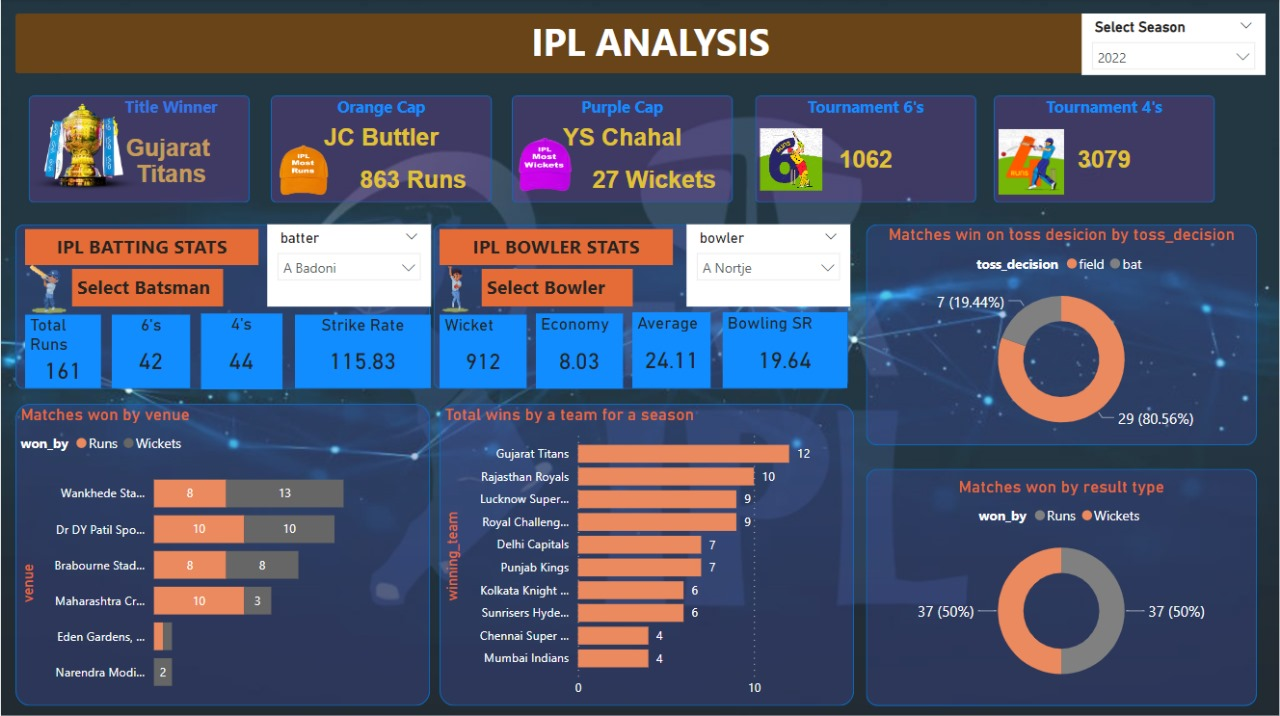

This screenshot's page, from the dashboard's own definition file:
{"tool":"powerbi","page":{"name":"Page 1","canvas":[1280,720],"ordinal":0},"visuals":[{"type":"shape","box":[15,15,1250,60],"z":0},{"type":"textbox","box":[526.2,12.5,281.2,62.5],"z":1000},{"type":"slicer","fields":{"Values":["Calender Table.Year"]},"box":[1081.2,15,183.8,61.2],"z":2000},{"type":"card","title":"Title Winner","fields":{"Values":["ipl_matches_2008_2022 (1).Title Winner"]},"box":[91.2,96.2,157.5,107.5],"z":3000},{"type":"shape","box":[27.5,96.2,221.2,107.5],"z":4000},{"type":"shape","box":[270,96.2,221.2,107.5],"z":5000},{"type":"shape","box":[511.2,96.2,221.2,107.5],"z":6000},{"type":"shape","box":[755,96.2,221.2,107.5],"z":7000},{"type":"shape","box":[993.8,96.2,221.2,107.5],"z":8000},{"type":"card","title":"Orange Cap ","fields":{"Values":["ipl_ball_by_ball_2008_2022.batter"]},"box":[270,96.2,221.2,63.8],"z":9000},{"type":"card","title":"Tournament 6''s","fields":{"Values":["ipl_ball_by_ball_2008_2022.batsman_run"]},"box":[755,96.2,221.2,107.5],"z":10000},{"type":"card","title":"Orange Cap ","fields":{"Values":["ipl_ball_by_ball_2008_2022.Batter Runs"]},"box":[333.8,150,157.5,63.8],"z":11000},{"type":"card","title":"Purple Cap ","fields":{"Values":["ipl_ball_by_ball_2008_2022.bowler"]},"box":[511.2,96.2,221.2,63.8],"z":12000},{"type":"card","title":"Purple Cap ","fields":{"Values":["ipl_ball_by_ball_2008_2022.Bowler Wickets"]},"box":[575,150,157.5,63.8],"z":13000},{"type":"card","title":"Tournament 4''s","fields":{"Values":["ipl_ball_by_ball_2008_2022.batsman_run"]},"box":[993.8,96.2,221.2,107.5],"z":14000},{"type":"shape","box":[15,225,415,165],"z":15000},{"type":"shape","box":[432.5,225,415,165],"z":16000},{"type":"shape","box":[866.2,225,391.2,221.2],"z":17000},{"type":"slicer","fields":{"Values":["ipl_ball_by_ball_2008_2022.batter"]},"box":[266.2,225,163.8,82.5],"z":18000},{"type":"card","title":"Total Runs ","fields":{"Values":["ipl_ball_by_ball_2008_2022.batsman_run"]},"box":[23.8,316.2,76.2,73.8],"z":19000},{"type":"card","title":"6''s ","fields":{"Values":["ipl_ball_by_ball_2008_2022.batsman_run"]},"box":[111.2,316.2,78.8,73.8],"z":20000},{"type":"card","title":"4''s ","fields":{"Values":["ipl_ball_by_ball_2008_2022.batsman_run"]},"box":[200,315,81.2,76.2],"z":21000},{"type":"card","title":"Strike Rate","fields":{"Values":["ipl_ball_by_ball_2008_2022.Strike rate for batsman"]},"box":[293.8,316.2,136.2,73.8],"z":22000},{"type":"textbox","box":[481.2,270,151.2,37.5],"z":23000},{"type":"textbox","box":[23.8,230,233.8,36.2],"z":24000},{"type":"slicer","fields":{"Values":["ipl_ball_by_ball_2008_2022.bowler"]},"box":[686.2,225,163.8,82.5],"z":25000},{"type":"card","title":"Wicket ","fields":{"Values":["ipl_ball_by_ball_2008_2022.iswicket_delivery"]},"box":[438.8,316.2,87.5,73.8],"z":26000},{"type":"card","title":"Economy","fields":{"Values":["ipl_ball_by_ball_2008_2022.Economy"]},"box":[535,315,87.5,75],"z":27000},{"type":"card","title":"Average","fields":{"Values":["ipl_ball_by_ball_2008_2022.Average Bowler"]},"box":[632.5,313.8,78.8,76.2],"z":28000},{"type":"card","title":"Bowling SR","fields":{"Values":["ipl_ball_by_ball_2008_2022.Bowling SR"]},"box":[722.5,313.8,125,76.2],"z":29000},{"type":"textbox","box":[438.8,230,233.8,36.2],"z":30000},{"type":"donutChart","fields":{"Y":["ipl_matches_2008_2022 (1).Matches win on toss desicion"],"Category":["ipl_matches_2008_2022 (1).toss_decision"]},"box":[866.2,225,391.2,221.2],"z":31000},{"type":"textbox","box":[71.2,270,151.2,37.5],"z":32000},{"type":"shape","box":[866.2,470,391.2,237.5],"z":33000},{"type":"donutChart","title":"Matches won by result type","fields":{"Y":["ipl_matches_2008_2022 (1).id"],"Category":["ipl_matches_2008_2022 (1).won_by"]},"box":[866.2,477.5,391.2,221.2],"z":34000},{"type":"shape","box":[15,405,415,302.5],"z":35000},{"type":"shape","box":[438.8,405,415,302.5],"z":36000},{"type":"barChart","title":"Matches won by venue","fields":{"Category":["ipl_matches_2008_2022 (1).venue"],"Y":["ipl_matches_2008_2022 (1).id"],"Series":["ipl_matches_2008_2022 (1).won_by"]},"box":[15,405,415,302.5],"z":37000},{"type":"barChart","title":"Total wins by a team for a season","fields":{"Category":["ipl_matches_2008_2022 (1).winning_team"],"Y":["ipl_matches_2008_2022 (1).winning_team"]},"box":[438.8,405,415,302.5],"z":38000},{"type":"image","box":[17.5,85,133.8,130],"z":39000},{"type":"image","box":[755,122.5,72.5,75],"z":40000},{"type":"image","box":[3.8,245,87.5,91.2],"z":41000},{"type":"image","box":[412.5,257.5,85,63.8],"z":42000},{"type":"image","box":[993.8,122.5,75,80],"z":43000},{"type":"image","box":[511.2,128.8,67.5,73.8],"z":44000},{"type":"image","box":[270,140,66.2,63.8],"z":45000}]}

Visuals, with their boxes in screenshot pixels (x1, y1, x2, y2), scaled from the page's 1280x720 canvas onto the 1280x716 screenshot:
shape: (15, 15, 1265, 75)
textbox: (526, 12, 807, 75)
slicer - Calender Table.Year: (1081, 15, 1265, 76)
"Title Winner" card: (91, 96, 249, 203)
shape: (28, 96, 249, 203)
shape: (270, 96, 491, 203)
shape: (511, 96, 732, 203)
shape: (755, 96, 976, 203)
shape: (994, 96, 1215, 203)
"Orange Cap " card: (270, 96, 491, 159)
"Tournament 6''s" card: (755, 96, 976, 203)
"Orange Cap " card: (334, 149, 491, 213)
"Purple Cap " card: (511, 96, 732, 159)
"Purple Cap " card: (575, 149, 732, 213)
"Tournament 4''s" card: (994, 96, 1215, 203)
shape: (15, 224, 430, 388)
shape: (432, 224, 848, 388)
shape: (866, 224, 1257, 444)
slicer - ipl_ball_by_ball_2008_2022.batter: (266, 224, 430, 306)
"Total Runs " card: (24, 314, 100, 388)
"6''s " card: (111, 314, 190, 388)
"4''s " card: (200, 313, 281, 389)
"Strike Rate" card: (294, 314, 430, 388)
textbox: (481, 268, 632, 306)
textbox: (24, 229, 258, 265)
slicer - ipl_ball_by_ball_2008_2022.bowler: (686, 224, 850, 306)
"Wicket " card: (439, 314, 526, 388)
"Economy" card: (535, 313, 622, 388)
"Average" card: (632, 312, 711, 388)
"Bowling SR" card: (722, 312, 848, 388)
textbox: (439, 229, 673, 265)
donutChart - ipl_matches_2008_2022 (1).Matches win on toss desicion x ipl_matches_2008_2022 (1).toss_decision: (866, 224, 1257, 444)
textbox: (71, 268, 222, 306)
shape: (866, 467, 1257, 704)
"Matches won by result type" donutChart: (866, 475, 1257, 695)
shape: (15, 403, 430, 704)
shape: (439, 403, 854, 704)
"Matches won by venue" barChart: (15, 403, 430, 704)
"Total wins by a team for a season" barChart: (439, 403, 854, 704)
image: (18, 85, 151, 214)
image: (755, 122, 828, 196)
image: (4, 244, 91, 334)
image: (412, 256, 498, 320)
image: (994, 122, 1069, 201)
image: (511, 128, 579, 201)
image: (270, 139, 336, 203)
